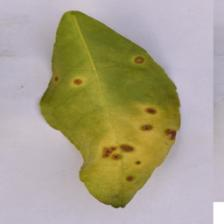canker: (71, 48, 180, 214)
